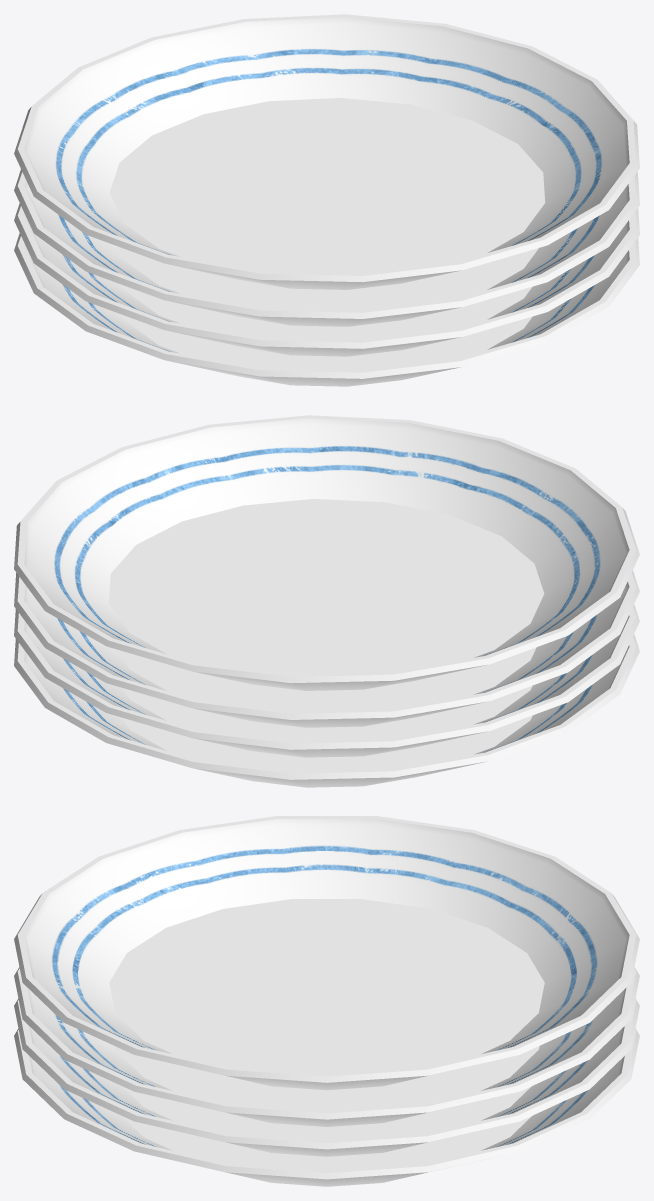
File: Piring.fbx
The picture shows the model from 3 angles, top to bottom: view 1: azimuth 30°, elevation 25°; view 2: azimuth 150°, elevation 25°; view 3: azimuth 270°, elevation 25°; orthographic projection.
Visible parts, largest first — view 1: Prato.003, Prato.002, Prato, Prato.001; view 2: Prato.003, Prato.002, Prato, Prato.001; view 3: Prato.003, Prato.002, Prato, Prato.001.
Part boxes in pixels (bbox=[...]): Prato.003: bbox=[14, 14, 639, 289]; Prato.002: bbox=[14, 169, 639, 326]; Prato: bbox=[14, 233, 639, 386]; Prato.001: bbox=[14, 203, 639, 356]; Prato.003: bbox=[14, 415, 639, 690]; Prato.002: bbox=[14, 570, 639, 727]; Prato: bbox=[14, 634, 639, 787]; Prato.001: bbox=[14, 604, 639, 757]; Prato.003: bbox=[14, 816, 639, 1090]; Prato.002: bbox=[14, 967, 639, 1126]; Prato: bbox=[14, 1028, 639, 1186]; Prato.001: bbox=[14, 999, 639, 1156].
Bounding box in the file's own units: 254 × 75.75 × 255.
Materials: 1 (1 with a texture image).
